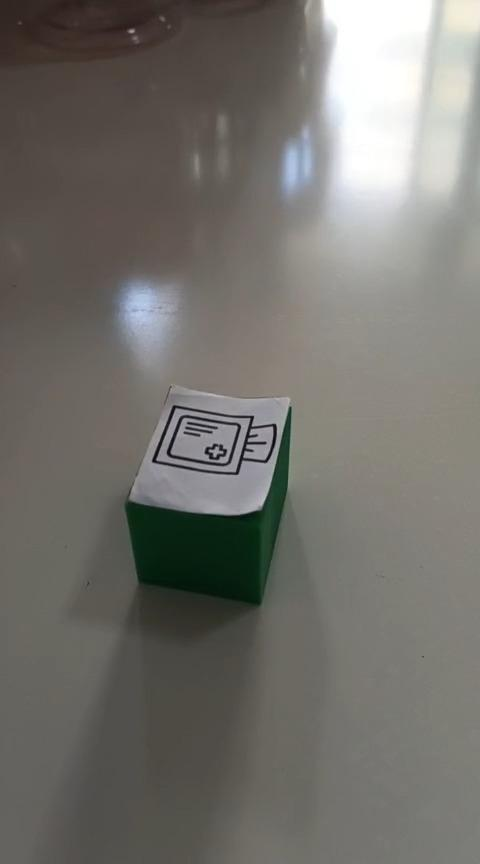Gauze: (123, 383, 292, 605)
